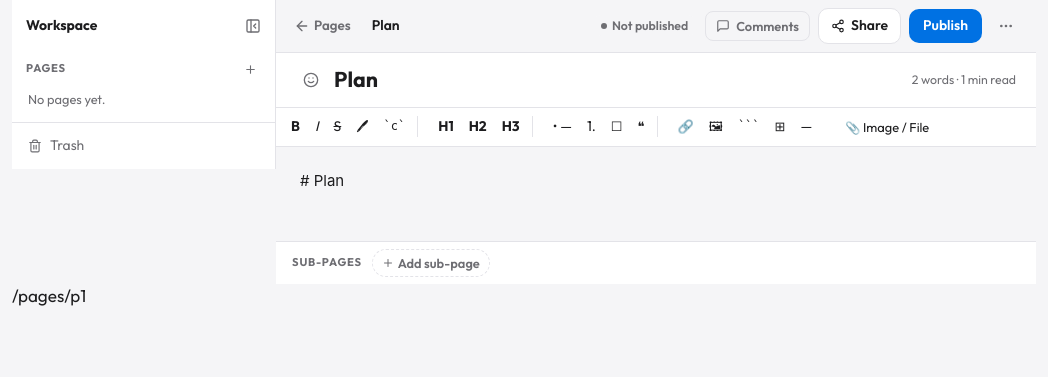
Scenario: /pages/:id › sends base_updated_at and offers a way out of a conflict
Replace the text in the field showing "Plan" with "Plan v2". click: coordinates (619, 80)
box: top-left (334, 62), bottom-right (904, 96)
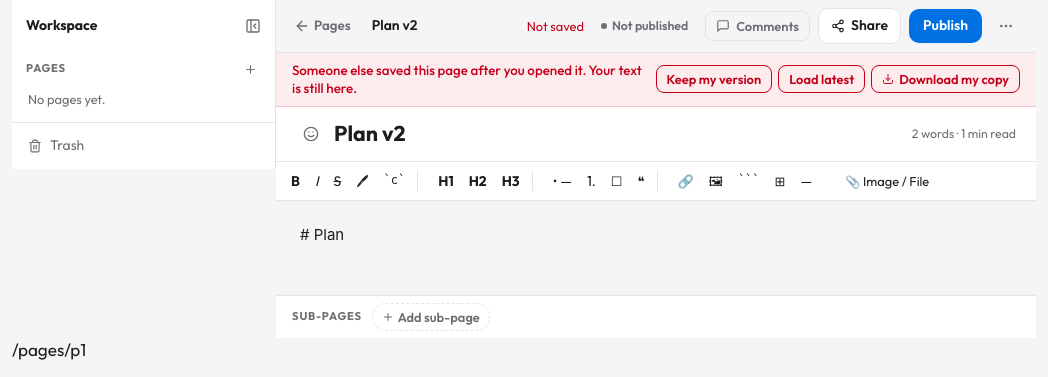
Now the text "Someone else saved this page" is shown, box top-left (292, 62), bottom-right (586, 78)
Click the button "Keep my version". click: coordinates (714, 79)
box: top-left (656, 65), bottom-right (772, 93)
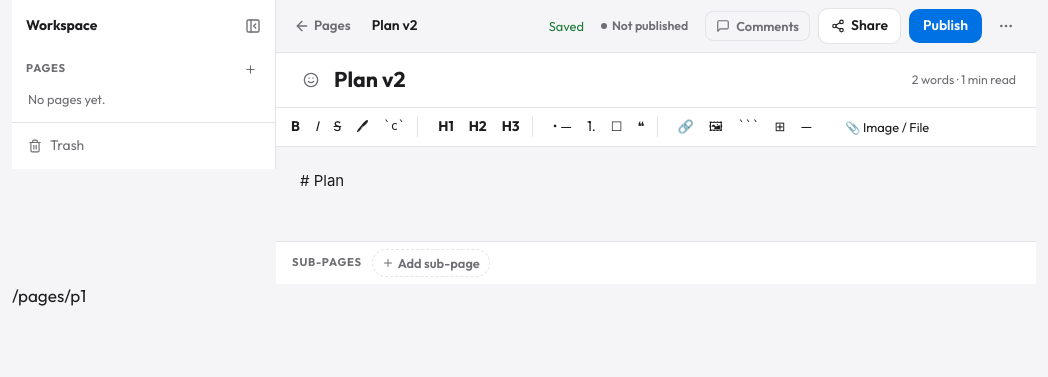
Now the text "Someone else saved this page" is gone
